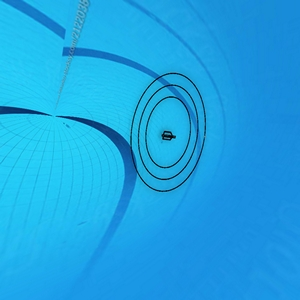circle: (128, 70, 209, 188)
submarine: (162, 132, 177, 141)
